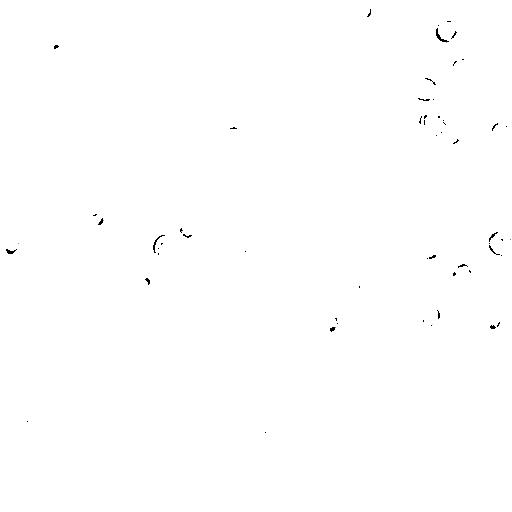micro-algae: (59, 109, 167, 223), (25, 71, 105, 149), (311, 460, 415, 511), (373, 47, 445, 119), (429, 87, 486, 146), (218, 0, 268, 52), (225, 235, 275, 282), (79, 263, 121, 305), (417, 105, 452, 140), (41, 34, 75, 69), (249, 413, 283, 447), (150, 131, 182, 164), (151, 233, 183, 266), (338, 435, 371, 466), (199, 129, 232, 152), (208, 397, 237, 423), (395, 289, 423, 315), (486, 230, 512, 257), (135, 254, 164, 277), (413, 76, 441, 99), (449, 135, 476, 158), (435, 19, 460, 43), (450, 261, 474, 286), (33, 490, 61, 511), (178, 176, 202, 200), (222, 124, 245, 149), (318, 17, 345, 38), (31, 279, 57, 299), (420, 303, 440, 329), (179, 221, 203, 239), (489, 119, 510, 139), (2, 234, 21, 256), (453, 57, 475, 76), (354, 1, 375, 20), (463, 470, 482, 491), (321, 310, 340, 331), (13, 414, 30, 437), (251, 222, 270, 241), (86, 211, 106, 229), (420, 243, 439, 261), (135, 275, 153, 293), (485, 312, 503, 328), (2, 147, 10, 182), (241, 241, 259, 256), (346, 277, 364, 291), (6, 506, 28, 512)
